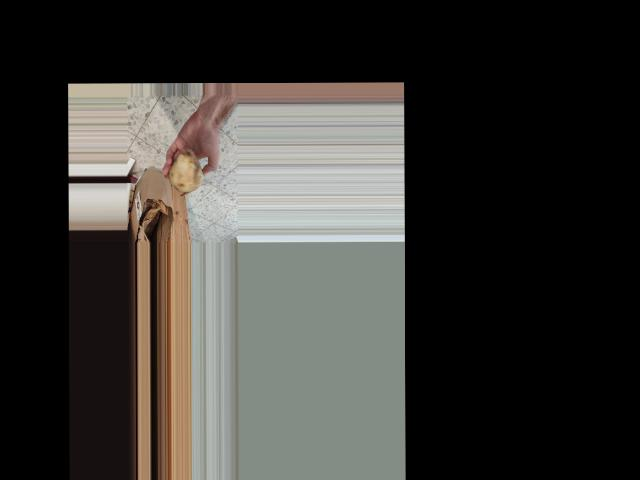onion: (166, 146, 205, 194)
